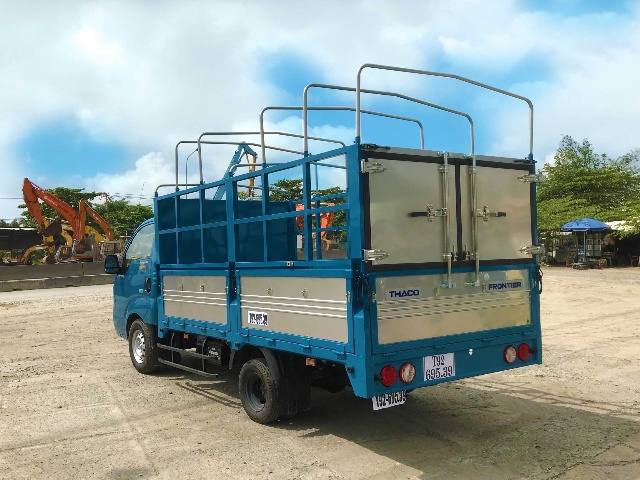Xe_tai_thung: (104, 60, 547, 427)
